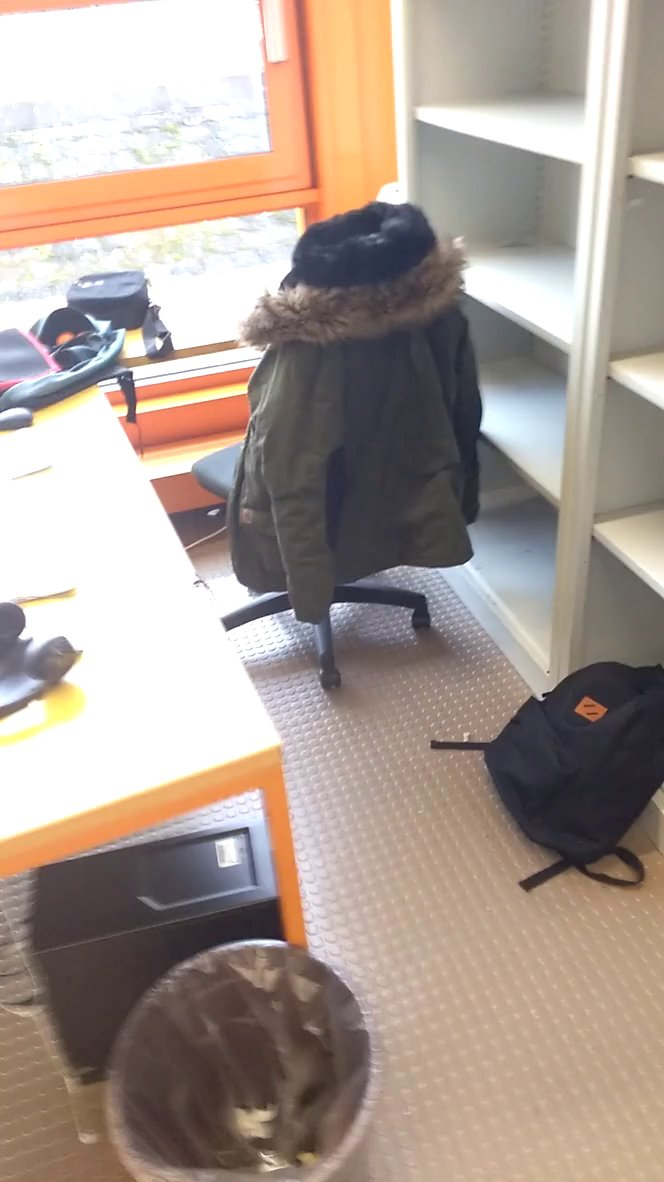bag: (473, 636, 664, 896)
bin: (96, 926, 413, 1182)
